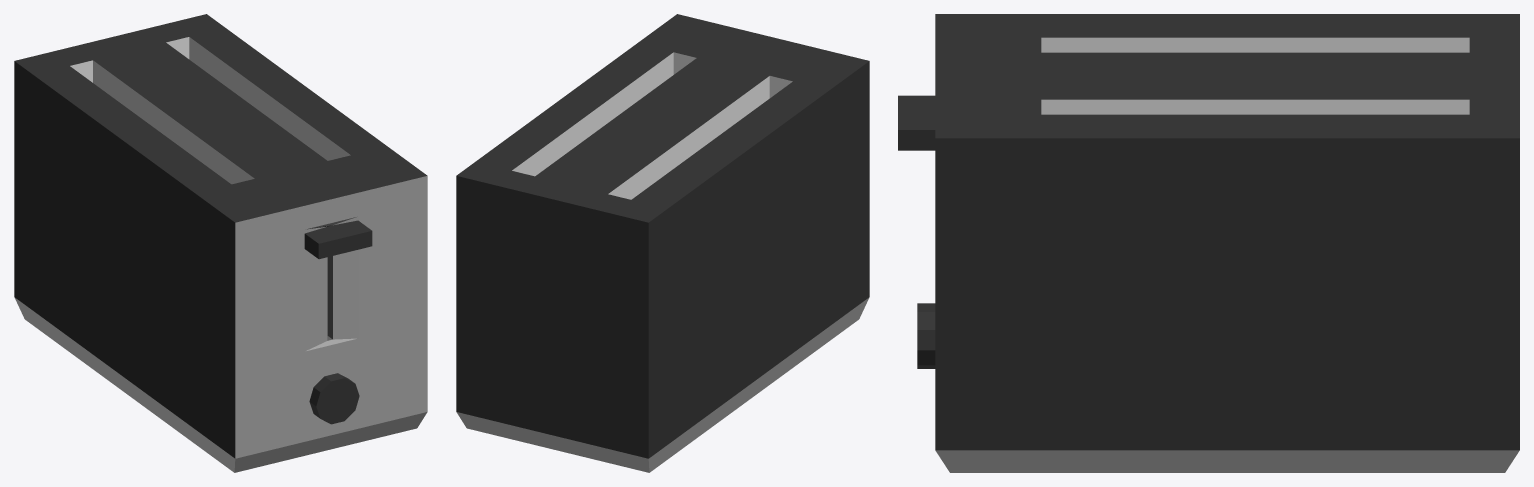
The model's file is toaster_01.glb.
3 renders of one model, left to right at view 1: azimuth 30°, elevation 25°; view 2: azimuth 150°, elevation 25°; view 3: azimuth 270°, elevation 25°, orthographic. The views are drawn at different scales.
Parts seen in each view (by area): view 1: Cube; view 2: Cube; view 3: Cube.
Part boxes in pixels (x1,y1,x2,y2): Cube: (14, 14, 427, 472); Cube: (456, 14, 869, 472); Cube: (898, 14, 1519, 472).
Size of the model in its own units: 0.1522 by 0.1931 by 0.322.
Materials: 1 (1 with a texture image).
